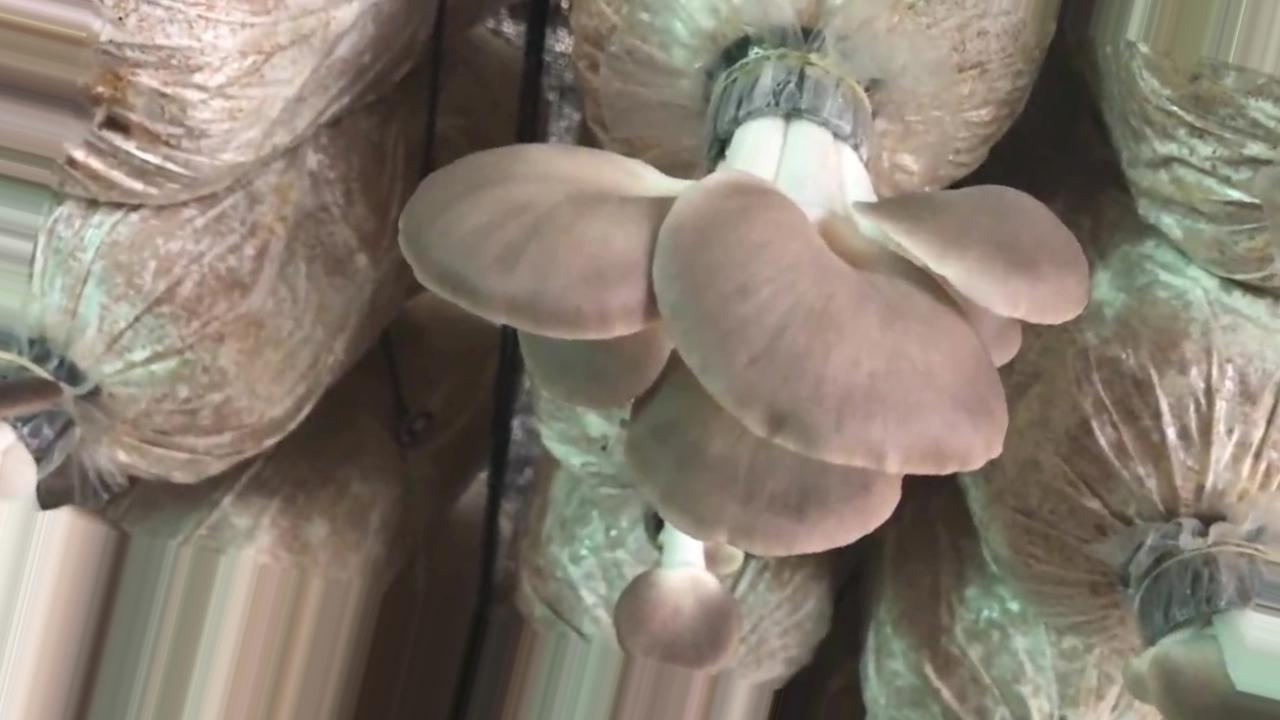nam: (403, 53, 1092, 556), (1, 366, 122, 720), (1127, 548, 1279, 720), (615, 510, 739, 720)
